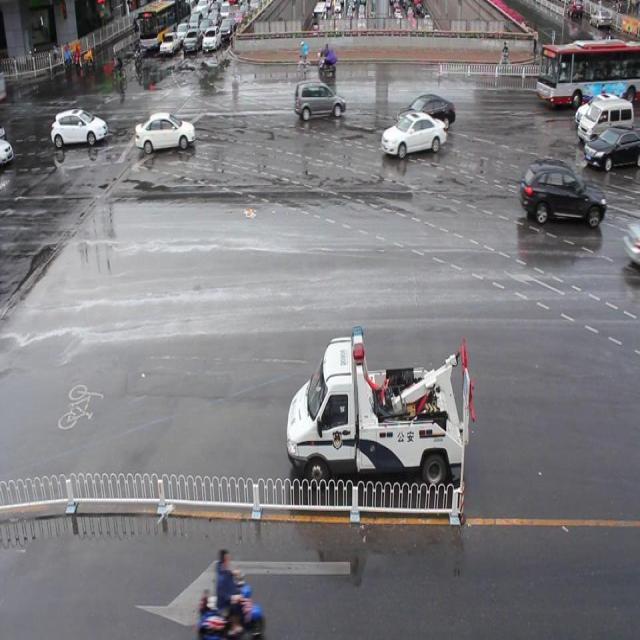bus: (286, 320, 475, 486)
car: (519, 158, 605, 227), (381, 113, 446, 158), (583, 127, 640, 172), (136, 112, 196, 153), (295, 79, 346, 120), (51, 110, 108, 145), (397, 96, 454, 128)
truck: (578, 100, 640, 142)
van: (535, 42, 640, 104)
